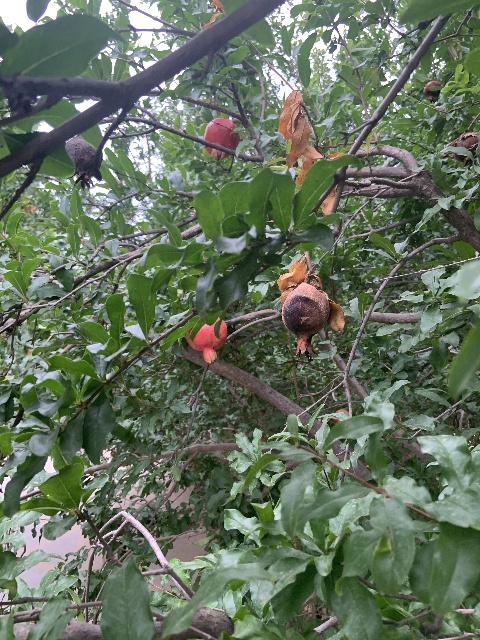ripe: (186, 316, 227, 363), (203, 117, 241, 160)
